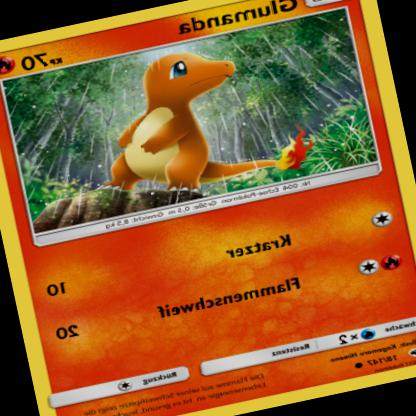Charmander: (90, 35, 292, 205)
